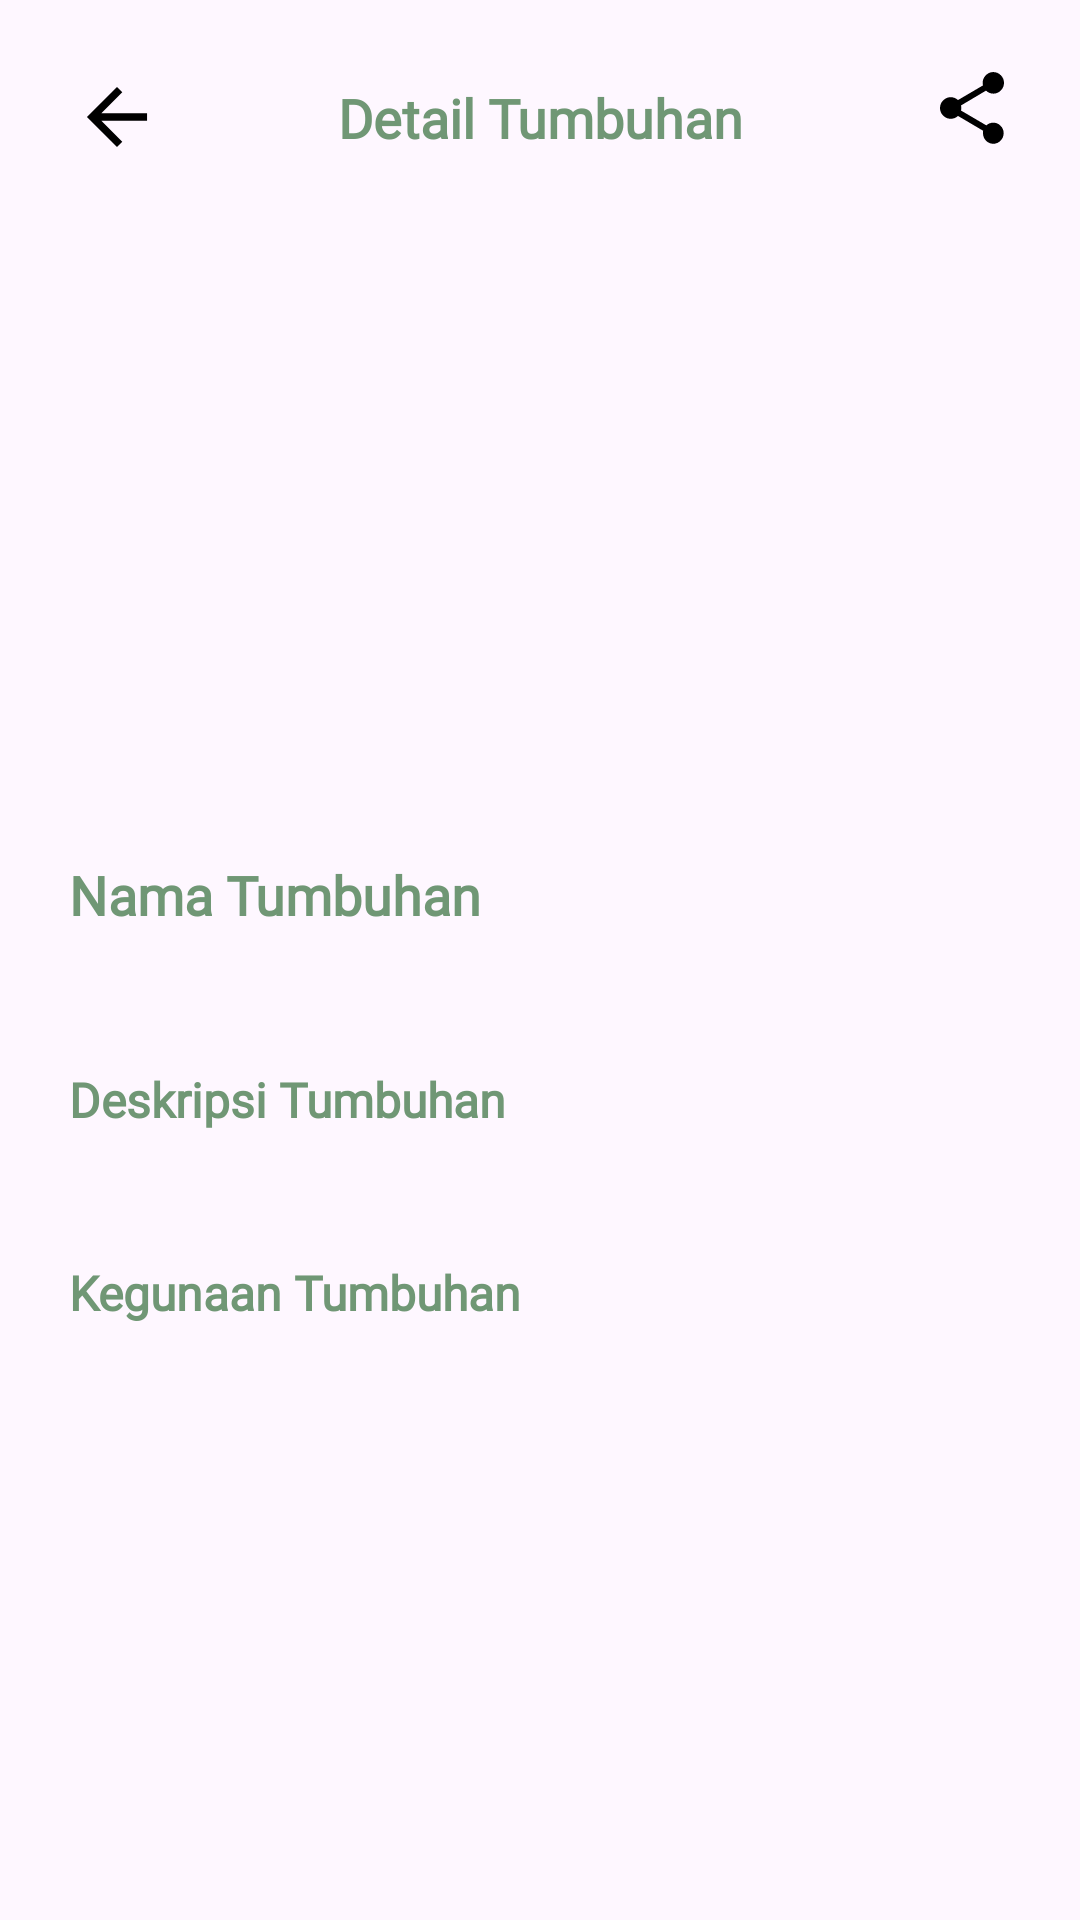

Point at icon controls on the screen. Image size 1080px×1920px, points as (x,y).
gambar ic arrow back: (117,117)
gambar ic share: (972,108)
